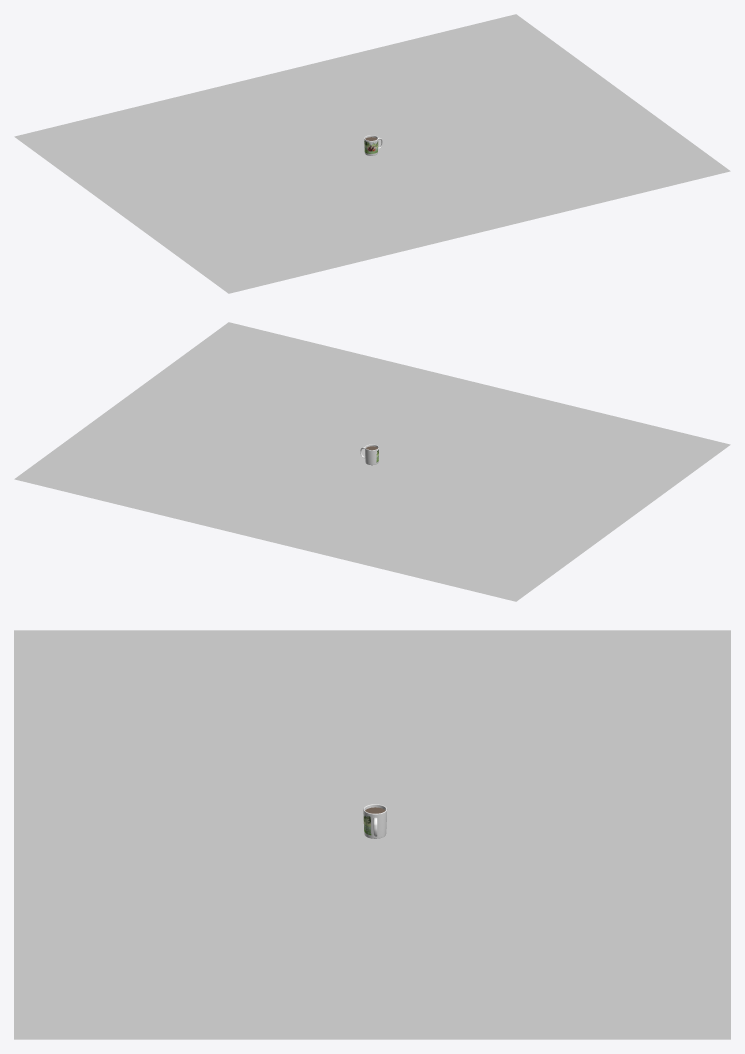
File: lightscene_with_lights.dae
3 renders of one model, top to bottom at view 1: azimuth 30°, elevation 25°; view 2: azimuth 150°, elevation 25°; view 3: azimuth 270°, elevation 25°, orthographic. The views are drawn at different scales.
Visible parts, largest first — view 1: cup_3500_polys_bildfeld_and_ground; view 2: cup_3500_polys_bildfeld_and_ground; view 3: cup_3500_polys_bildfeld_and_ground.
Boxes of the visible parts, x1=… form: cup_3500_polys_bildfeld_and_ground: x1=14, y1=14, x2=730, y2=293; cup_3500_polys_bildfeld_and_ground: x1=14, y1=322, x2=730, y2=601; cup_3500_polys_bildfeld_and_ground: x1=14, y1=630, x2=730, y2=1039.
Bounding box in the file's own units: 324 × 9.45 × 240.
4 materials, 3 textured.
